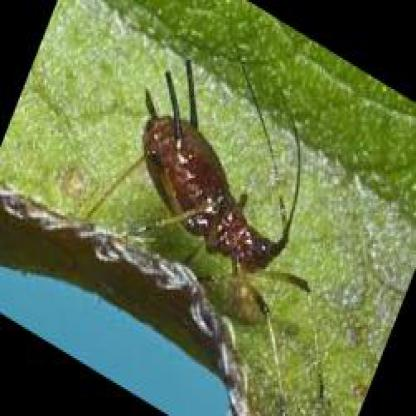uroleucon compositae: (138, 59, 309, 315)
